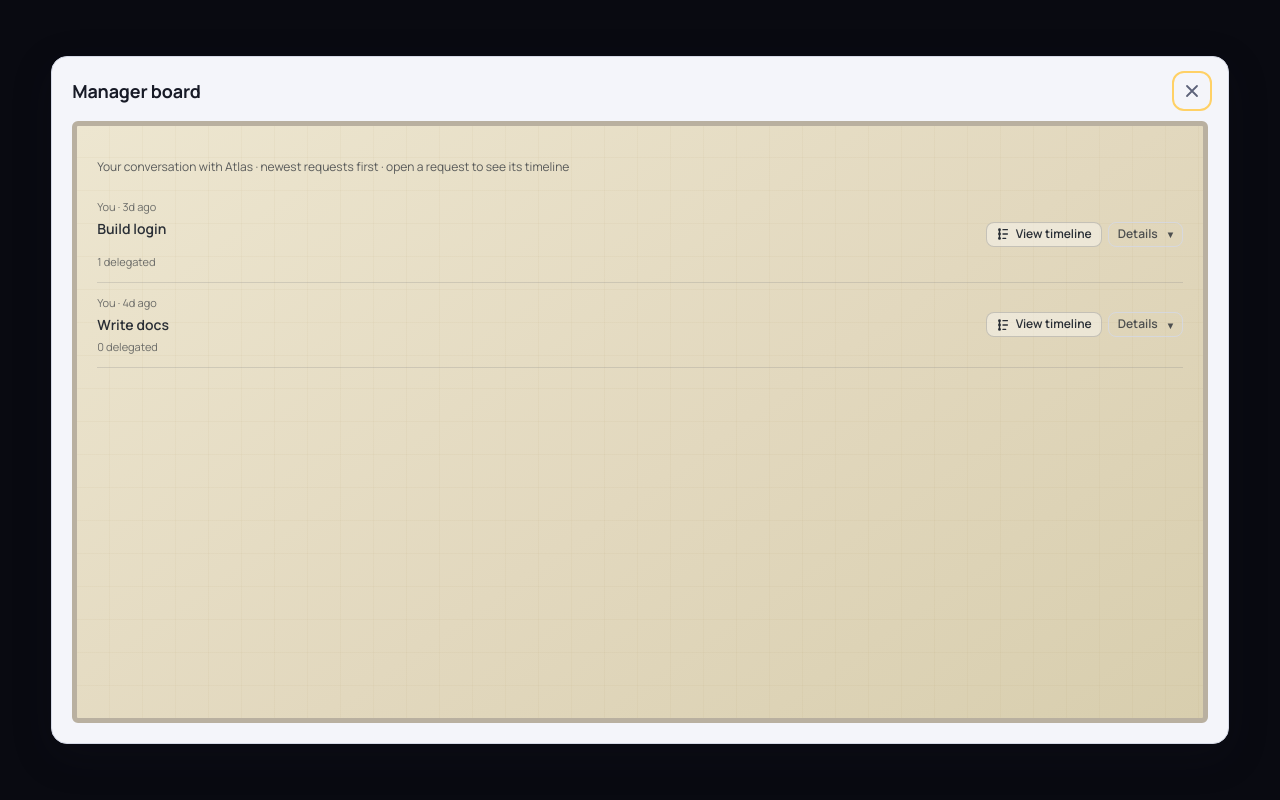
Manager board › clicking a request's title area opens its timeline too
The width and height of the screenshot is (1280, 800).
Click the text "Write docs".
click(133, 325)  # box [97,314,169,335]
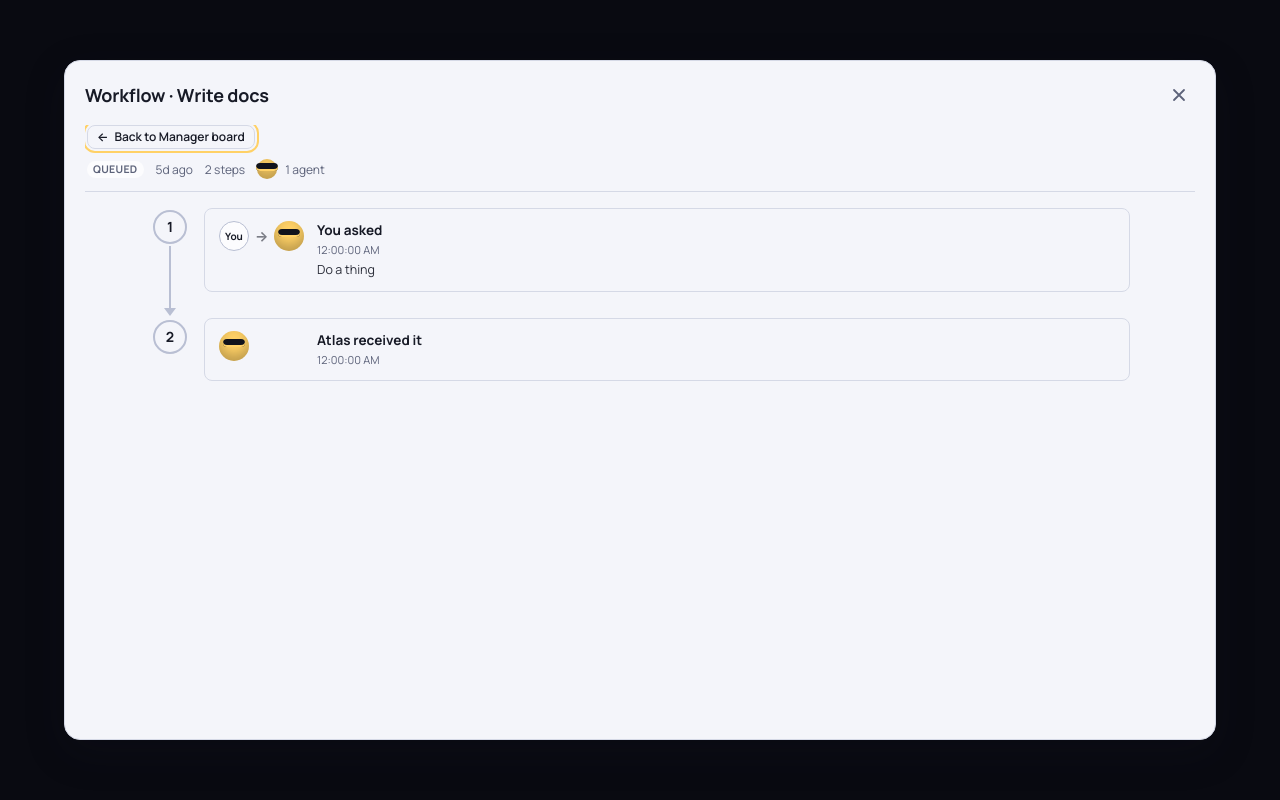
Check: the dialog "Workflow · Write docs" is shown
Check: the element with test id "workflow-board" is shown, box [85,125,1195,380]
